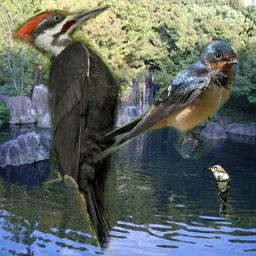Cuckoo: (207, 165, 231, 216)
Swallow: (93, 40, 241, 165)
Woodpecker: (11, 4, 154, 256)
